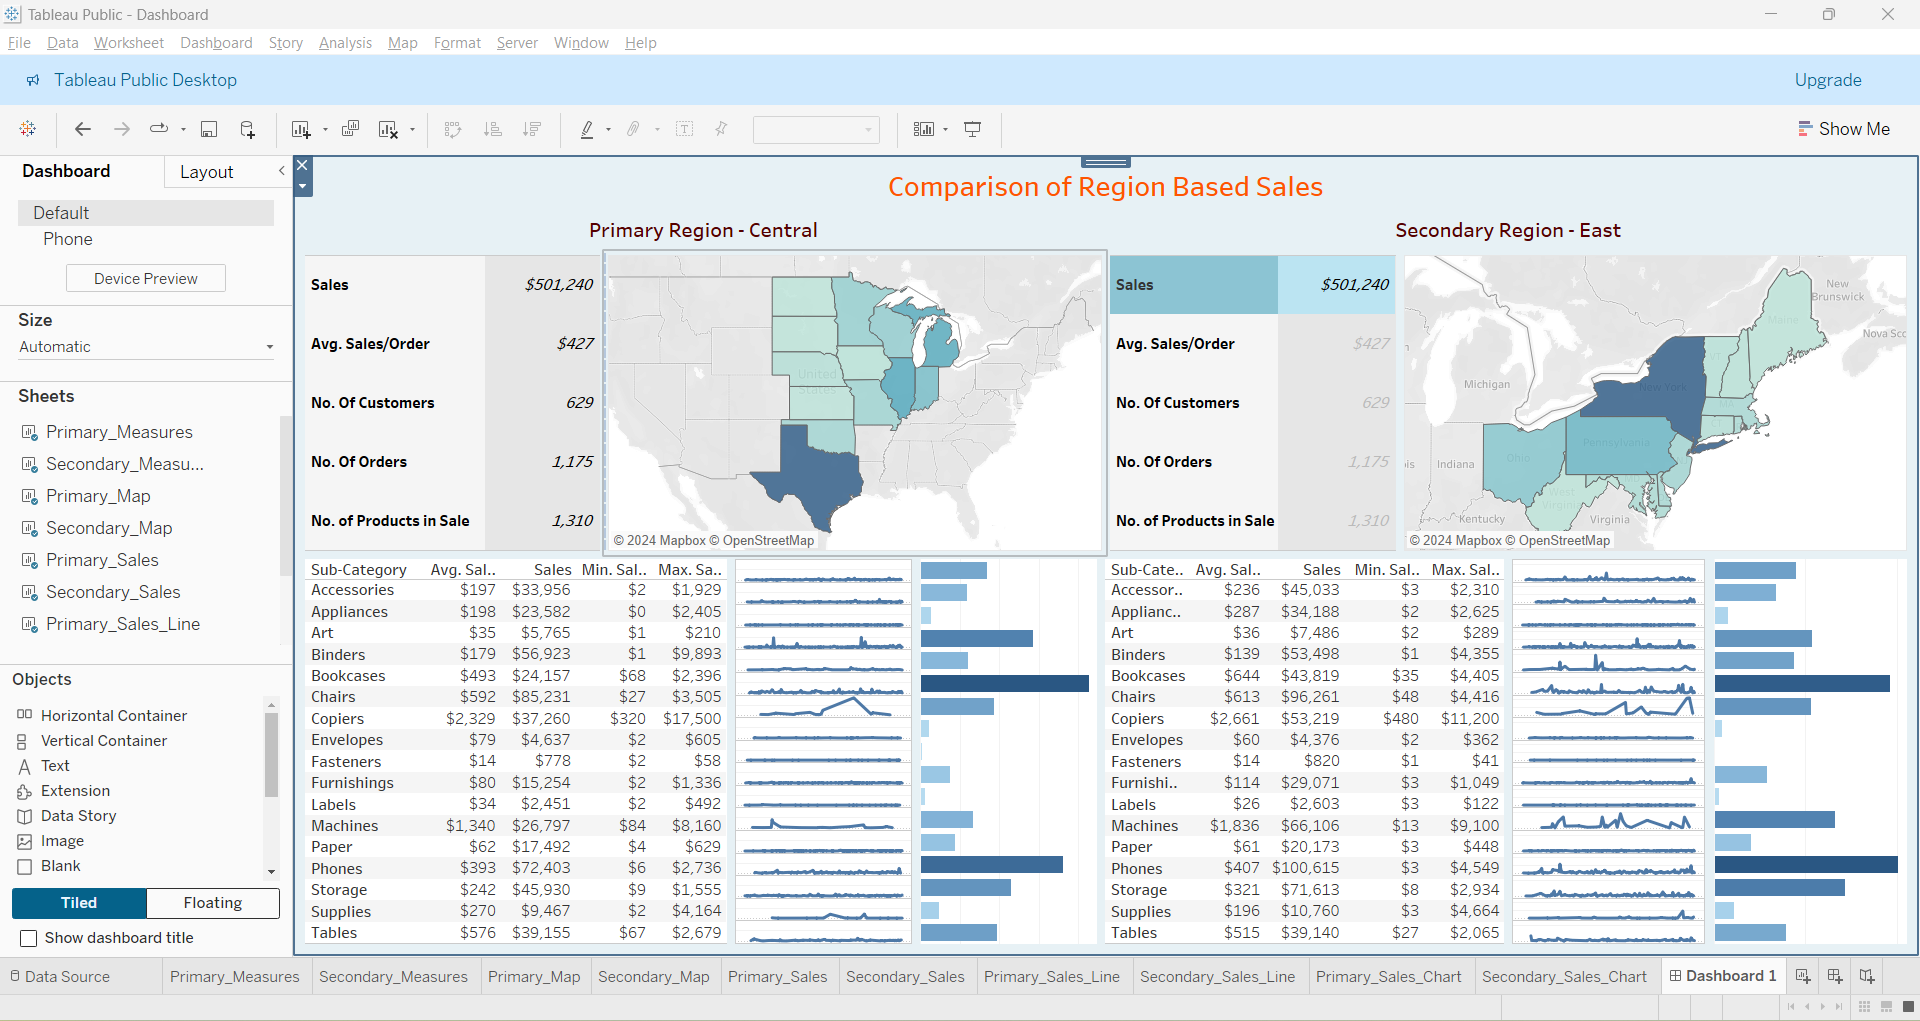

The page's visual inventory and layout, read from the dashboard file:
{"tool":"tableau","page":{"name":"Dashboard 1","canvas":[1000,1000],"units":"permille","ordinal":0},"visuals":[{"type":"text","box":[4.8,10,990.3,54.8]},{"type":"text","box":[4.8,64.8,495.1,54.9]},{"type":"text","box":[500,64.8,495.2,54.9]},{"type":"worksheet","title":"Primary_Measures","mark":"Automatic","box":[4.8,119.7,182.9,379.6]},{"type":"worksheet","title":"Primary_Map","mark":"Automatic","box":[187.7,119.7,312.3,379.6]},{"type":"worksheet","title":"Secondary_Measures","mark":"Automatic","box":[500,119.7,177.4,379.6]},{"type":"worksheet","title":"Secondary_Map","mark":"Automatic","box":[677.4,119.7,317.8,379.6]},{"type":"worksheet","title":"Primary_Sales","mark":"Automatic","rows":["Sub-Category"],"box":[4.8,499.3,264.4,490.6]},{"type":"worksheet","title":"Primary_Sales_Line","mark":"Automatic","rows":["Sub-Category","Sales"],"cols":["Order Date"],"box":[269.2,499.3,113.8,490.7]},{"type":"worksheet","title":"Primary_Sales_Chart","mark":"Automatic","rows":["Sub-Category"],"cols":["Sales"],"box":[383,499.3,113.8,490.7]},{"type":"worksheet","title":"Secondary_Sales","mark":"Automatic","rows":["Sub-Category"],"box":[496.8,499.3,250.7,490.7]},{"type":"worksheet","title":"Secondary_Sales_Line","mark":"Automatic","rows":["Sub-Category","Sales"],"cols":["Order Date"],"box":[747.5,499.3,123.8,490.7]},{"type":"worksheet","title":"Secondary_Sales_Chart","mark":"Automatic","rows":["Sub-Category"],"cols":["Sales"],"box":[871.3,499.3,123.8,490.7]}]}

Visuals, with their boxes on the dashboard's canvas, which has no fixed pixel size, in thousandths of its width and height (x1, y1, x2, y2). These are canvas units, not pixel positions in the 1920x1021 screenshot, which may show the page scaled, cropped or inside an application window:
text: 5/10/995/65
text: 5/65/500/120
text: 500/65/995/120
"Primary_Measures" worksheet: 5/120/188/499
"Primary_Map" worksheet: 188/120/500/499
"Secondary_Measures" worksheet: 500/120/677/499
"Secondary_Map" worksheet: 677/120/995/499
"Primary_Sales" worksheet: 5/499/269/990
"Primary_Sales_Line" worksheet: 269/499/383/990
"Primary_Sales_Chart" worksheet: 383/499/497/990
"Secondary_Sales" worksheet: 497/499/748/990
"Secondary_Sales_Line" worksheet: 748/499/871/990
"Secondary_Sales_Chart" worksheet: 871/499/995/990
